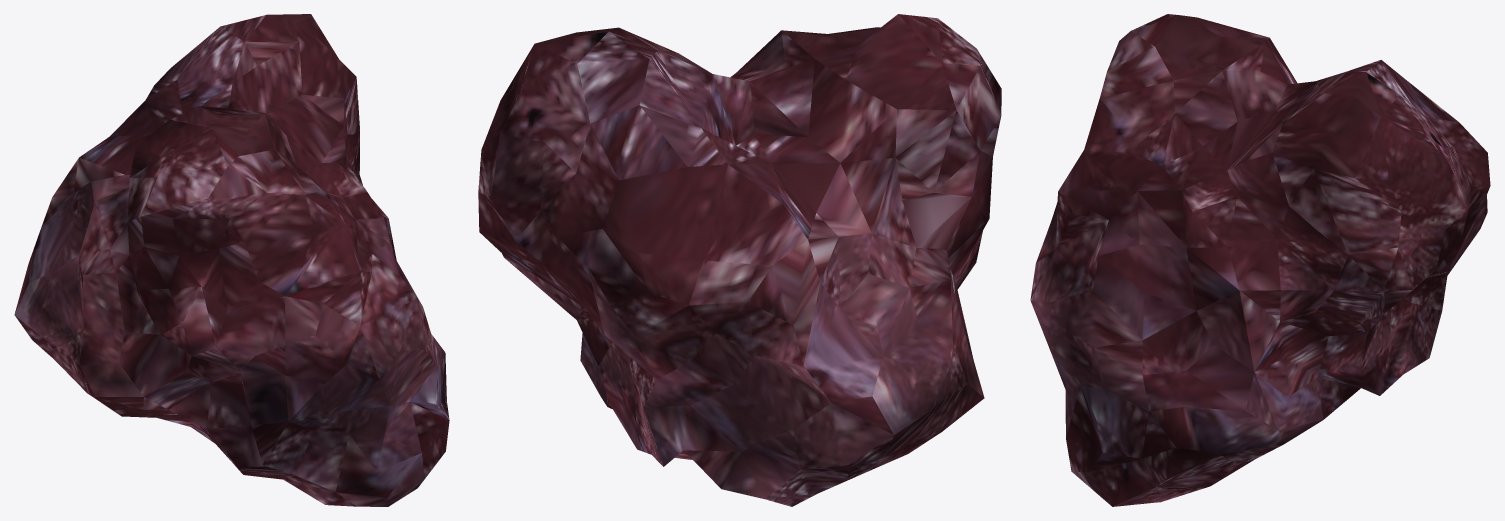
The model's file is AuthenticMeatChunk05.fbx.
The picture shows the model from 3 angles, left to right: view 1: azimuth 30°, elevation 25°; view 2: azimuth 150°, elevation 25°; view 3: azimuth 270°, elevation 25°; orthographic projection. The views are drawn at different scales.
Visible parts, largest first — view 1: rock; view 2: rock; view 3: rock.
Part boxes in pixels (box(x1,y1,x2,y2)): rock: box(14, 14, 449, 506); rock: box(478, 14, 1001, 506); rock: box(1030, 14, 1490, 506).
Bounding box in the file's own units: 0.0903 × 0.1078 × 0.1029.
